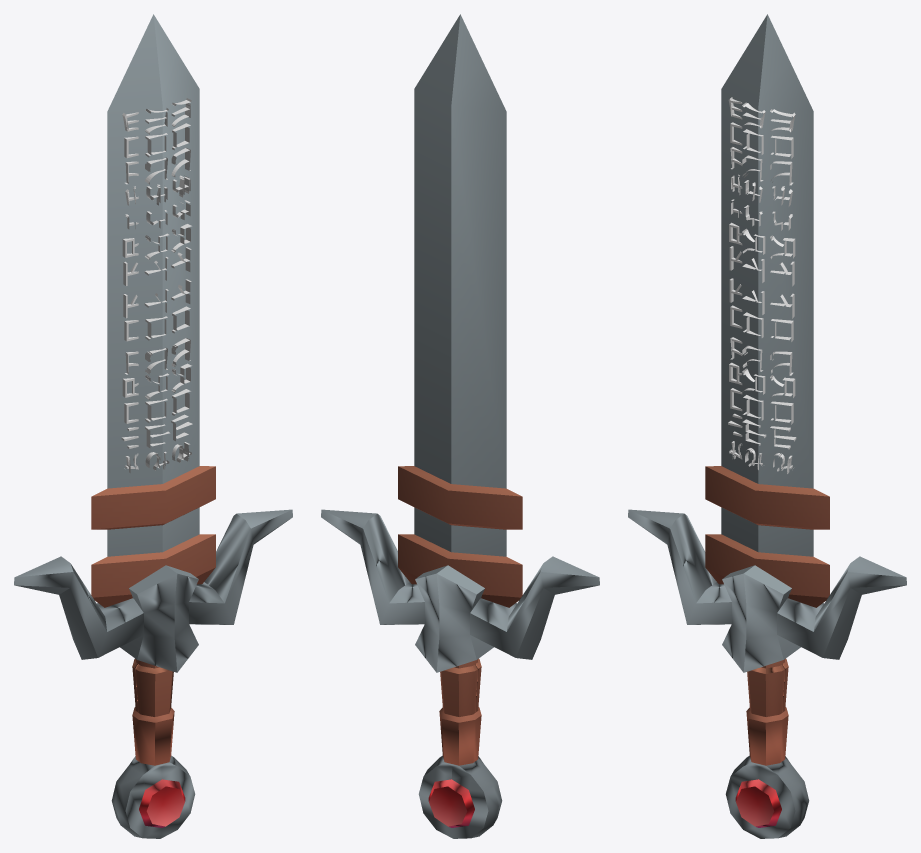
Rendered from sword_2handed_color.gltf.import.glb.
3 views of the same model, side by side, from view 1: azimuth 30°, elevation 25°; view 2: azimuth 150°, elevation 25°; view 3: azimuth 330°, elevation 25° (orthographic).
Visible parts, largest first — view 1: sword; view 2: sword; view 3: sword.
Boxes of the visible parts, box(x1,y1,x2,y2) form: sword: box(14, 14, 292, 838); sword: box(321, 14, 599, 838); sword: box(628, 14, 906, 838).
Size of the model in its own units: 0.839 by 2.37 by 0.248.
2 materials, 2 textured.
